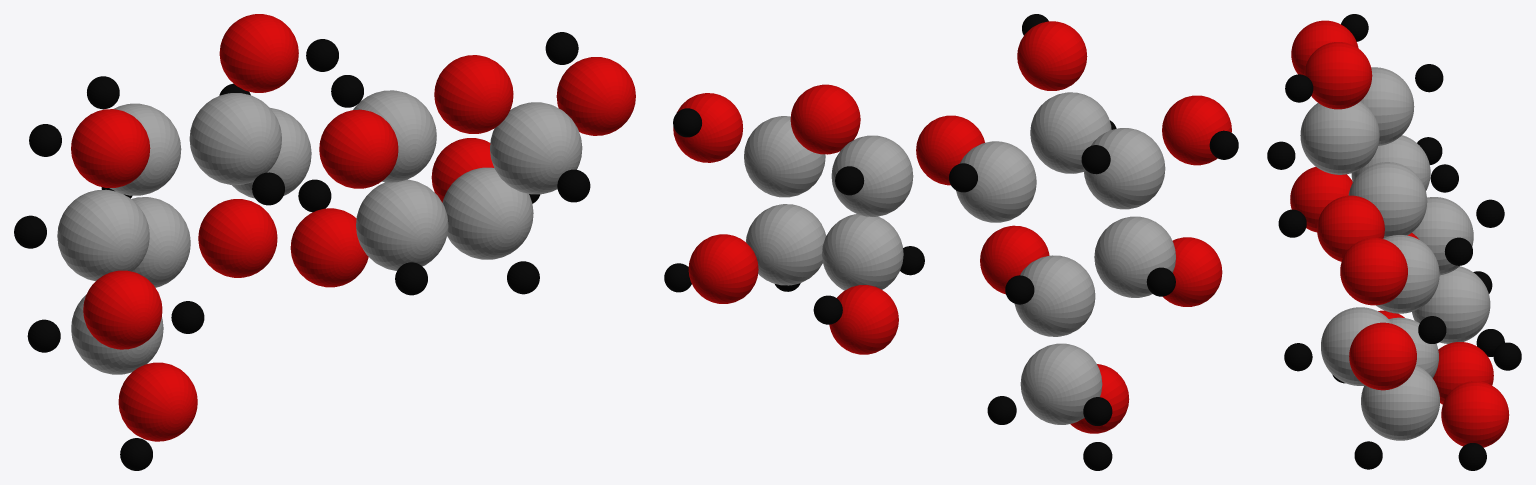
The model's file is Sucrose.glb.
3 renders of one model, left to right at view 1: azimuth 30°, elevation 25°; view 2: azimuth 150°, elevation 25°; view 3: azimuth 270°, elevation 25°, orthographic. The views are drawn at different scales.
Visible parts, largest first — view 1: world; view 2: world; view 3: world.
Part boxes in pixels (<box>): world: <box>14,14,635,470</box>; world: <box>664,14,1238,470</box>; world: <box>1267,14,1521,470</box>.
Bounding box in the file's own units: 10.77 × 7.62 × 4.5.
